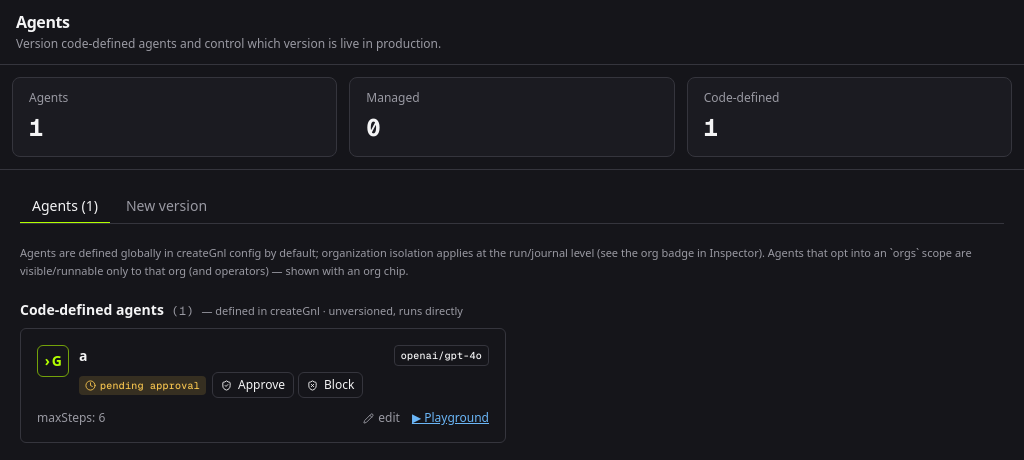
Test: Agents: approval registry — visible + actionable for an operator › shows the status badge for each state and lets an operator approve/block
The width and height of the screenshot is (1024, 460).
Expected: the text "a" is shown, [79, 346, 88, 366]
Expected: the text "pending approval" is shown, [79, 376, 206, 395]
Click the button "Approve" at (253, 385), box [212, 372, 294, 398]
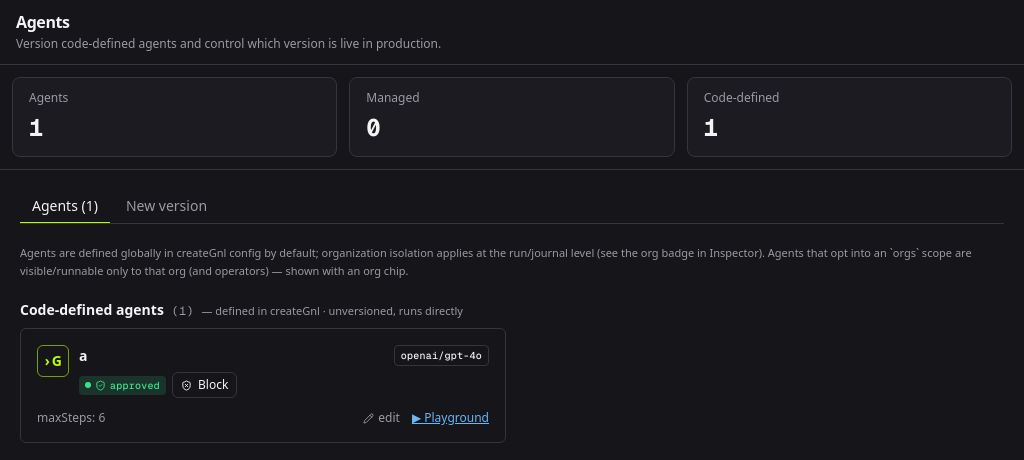
Now the text "approved" is shown, box [79, 376, 166, 395]
